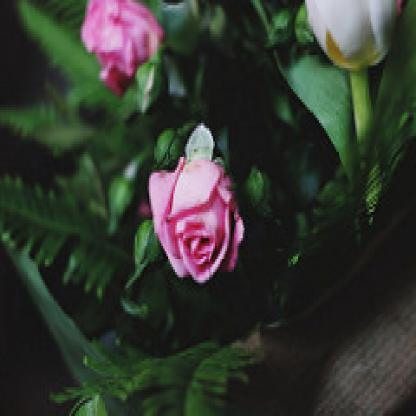Rose-Mawar: (145, 163, 249, 286), (83, 7, 175, 88)
